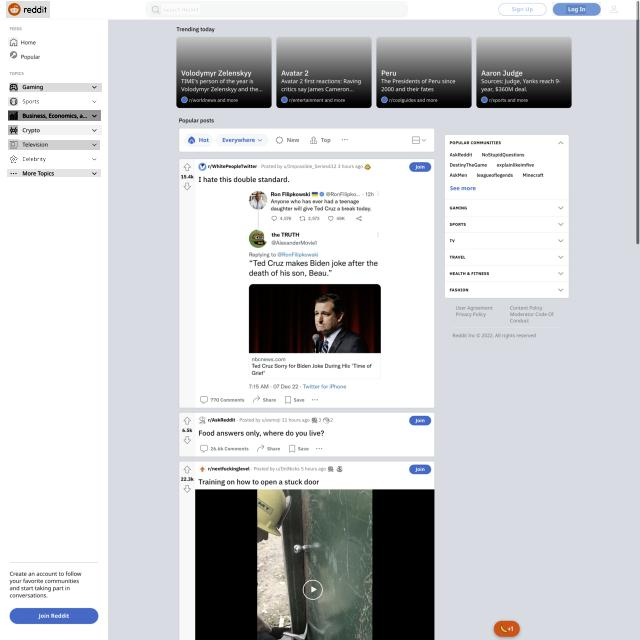CheckBox: (498, 2, 546, 17), (552, 2, 601, 16), (607, 2, 627, 16)
CheckedTextView: (146, 1, 408, 18)
alert: (10, 95, 102, 108), (8, 110, 101, 121), (10, 125, 102, 135), (8, 140, 100, 150), (9, 83, 102, 92), (8, 155, 101, 164), (7, 169, 101, 177)
bag: (0, 0, 638, 20)
carousel: (609, 4, 619, 15), (8, 52, 19, 62), (8, 140, 19, 150), (8, 154, 18, 165), (151, 5, 161, 15), (8, 37, 18, 47), (8, 125, 18, 135), (8, 97, 18, 106), (8, 111, 18, 120), (10, 82, 18, 92), (10, 171, 18, 176), (620, 7, 626, 11)
data feed: (566, 5, 586, 14), (511, 6, 534, 13)
date picker: (6, 1, 50, 18)
footer: (162, 4, 200, 14)
